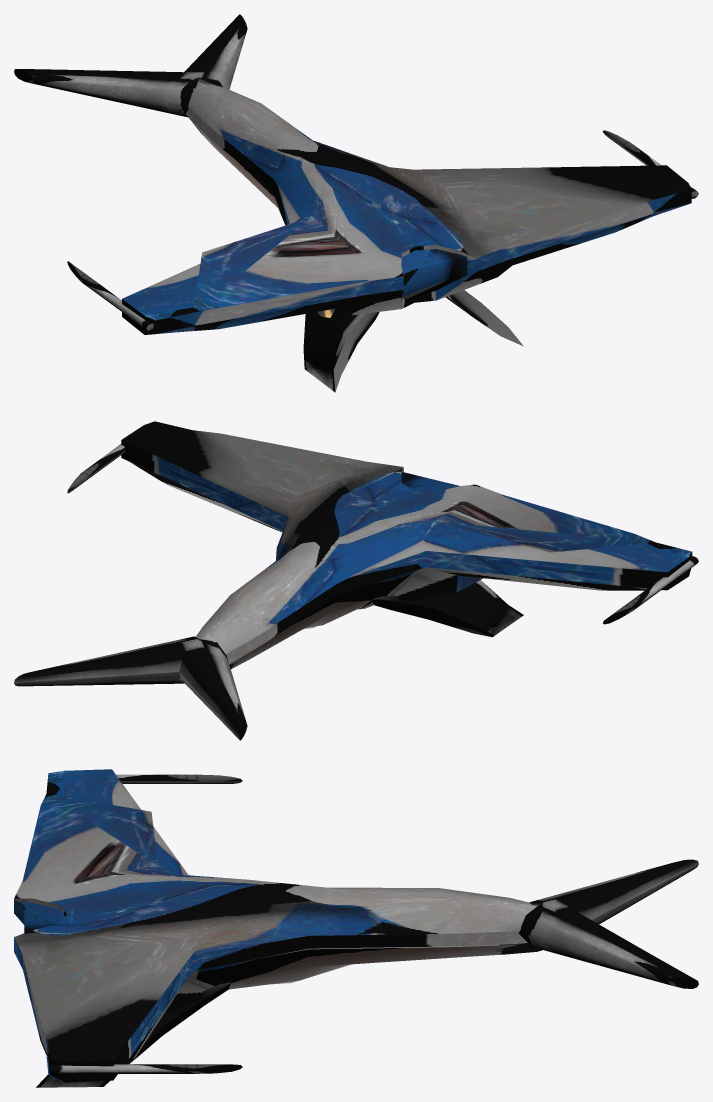
The model's file is Specter.fbx.
The picture shows the model from 3 angles, top to bottom: view 1: azimuth 30°, elevation 25°; view 2: azimuth 150°, elevation 25°; view 3: azimuth 270°, elevation 25°; orthographic projection. The views are drawn at different scales.
Parts seen in each view (by area): view 1: Specter2; view 2: Specter2; view 3: Specter2.
Boxes of the visible parts, bbox=[...] form: Specter2: bbox=[14, 14, 698, 392]; Specter2: bbox=[14, 421, 698, 740]; Specter2: bbox=[14, 769, 698, 1087].
Bounding box in the file's own units: 111 × 25.91 × 109.
Materials: 1 (1 with a texture image).
